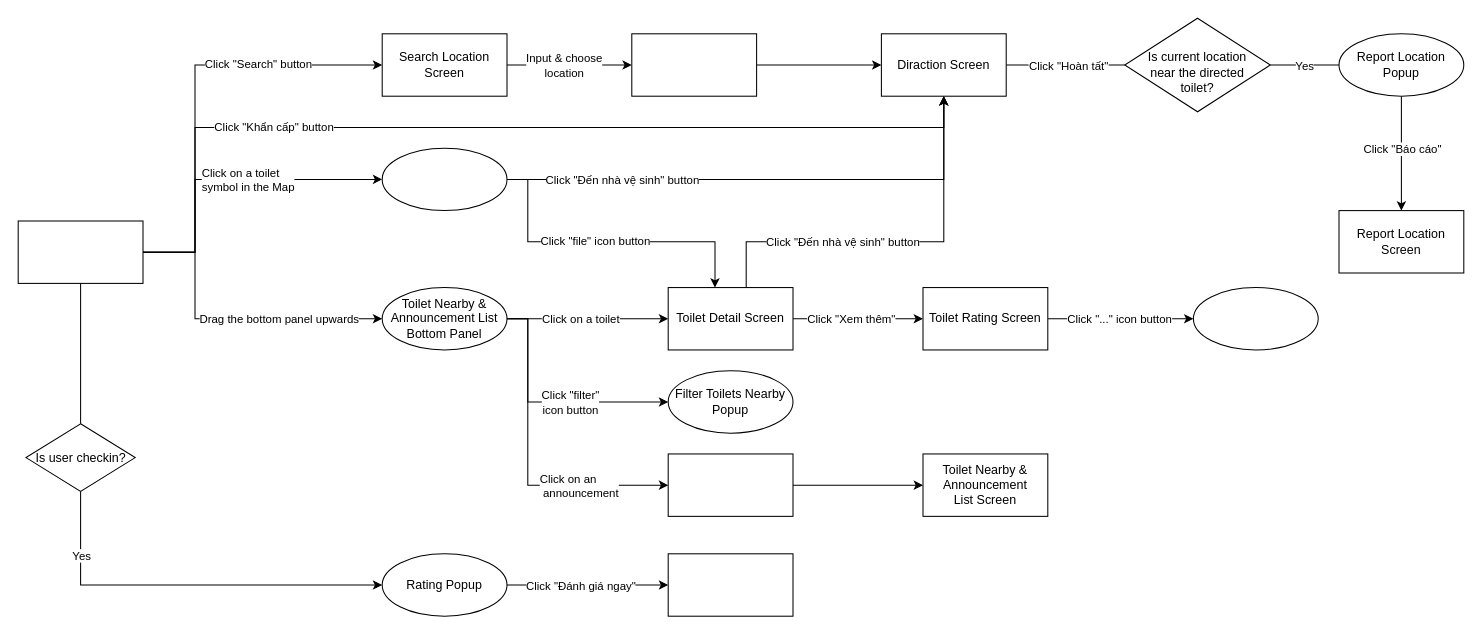
The diagram is 1482 pixels wide and 634 high, and some of its shapes have lost their labels. The centre of each missing label's shape, as x and y in pixels:
Announcement Detail Screen: the point at 730,484
Home Screen: the point at 80,251
Rating Screen: the point at 730,584
Report Rating Popup: the point at 1255,318
Search Location Result Screen: the point at 694,64
Toilet Information Bottom Panel: the point at 444,179
